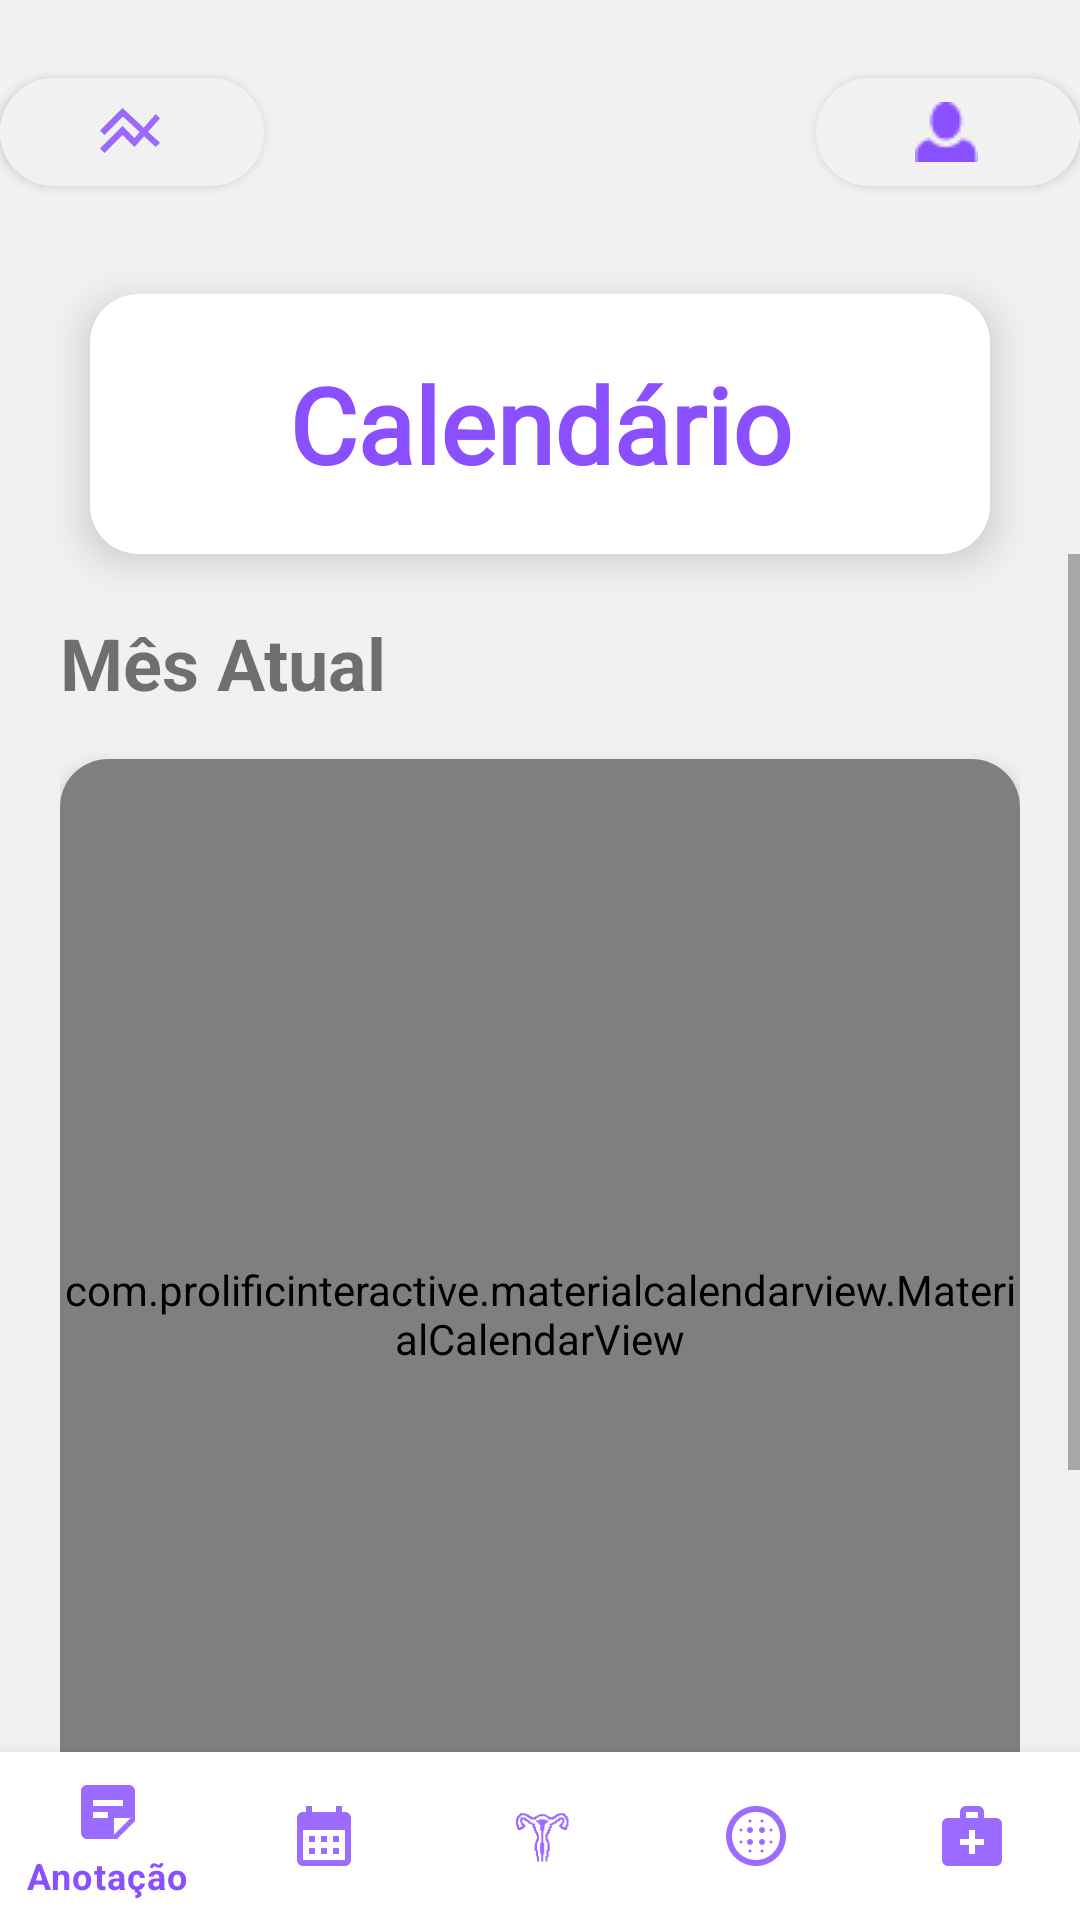

Screen size 1080px x 1920px. Icon name, then its center in pixels as point (x, y):
Gráfico: point (80, 130)
